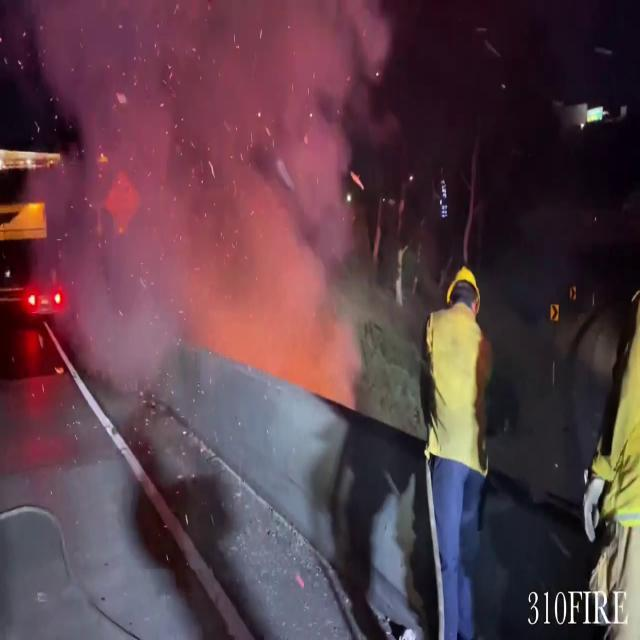Smoke: (32, 0, 372, 380)
